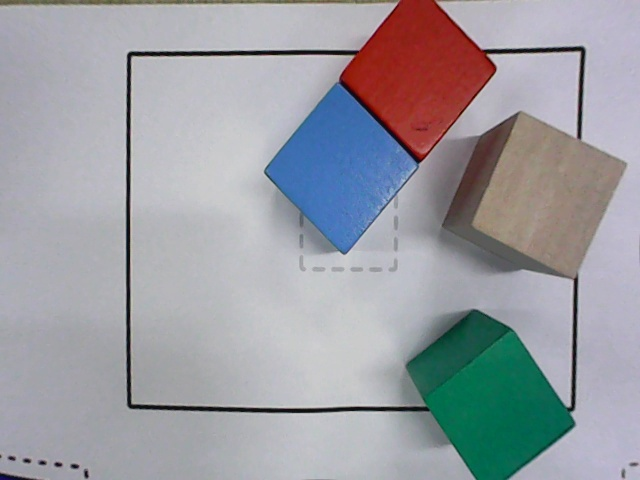upside of big cube: (471, 111, 628, 281), (264, 83, 419, 255), (340, 0, 497, 161), (423, 329, 576, 479)
